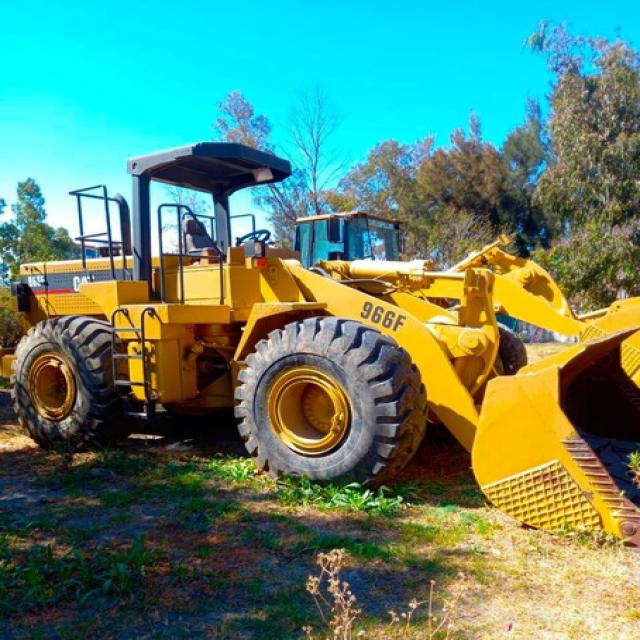buldozerpayloadergrader: (13, 131, 640, 553)
